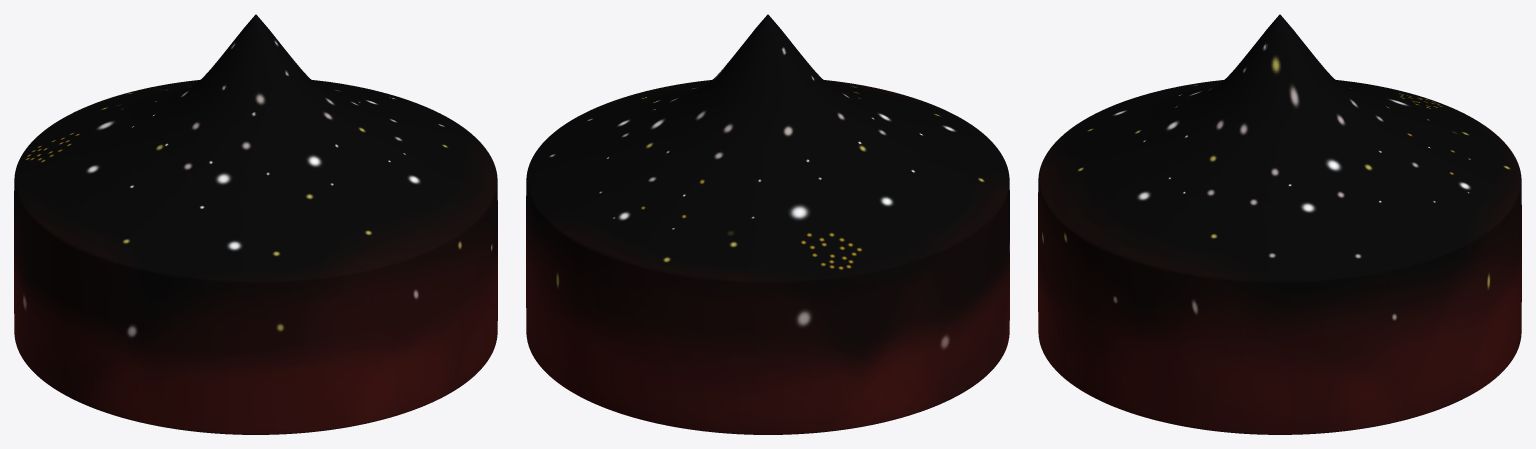
Rendered from CarpaGrande 1.fbx.
3 views of the same model, side by side, from view 1: azimuth 30°, elevation 25°; view 2: azimuth 150°, elevation 25°; view 3: azimuth 270°, elevation 25° (orthographic).
Visible parts, largest first — view 1: Carpa; view 2: Carpa; view 3: Carpa.
Boxes of the visible parts, bbox=[...] form: Carpa: bbox=[14, 14, 497, 434]; Carpa: bbox=[526, 14, 1009, 434]; Carpa: bbox=[1038, 14, 1521, 434].
Bounding box in the file's own units: 18870 × 13767 × 18869.
1 material, 1 textured.
